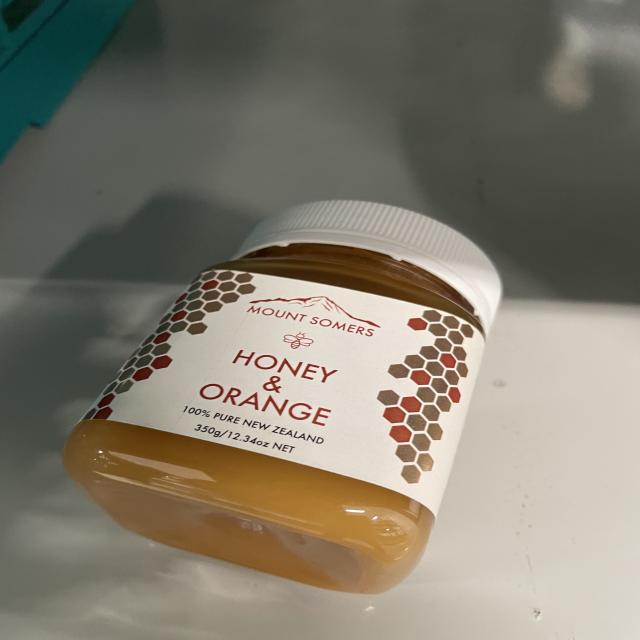object_name: (91, 213, 461, 570)
